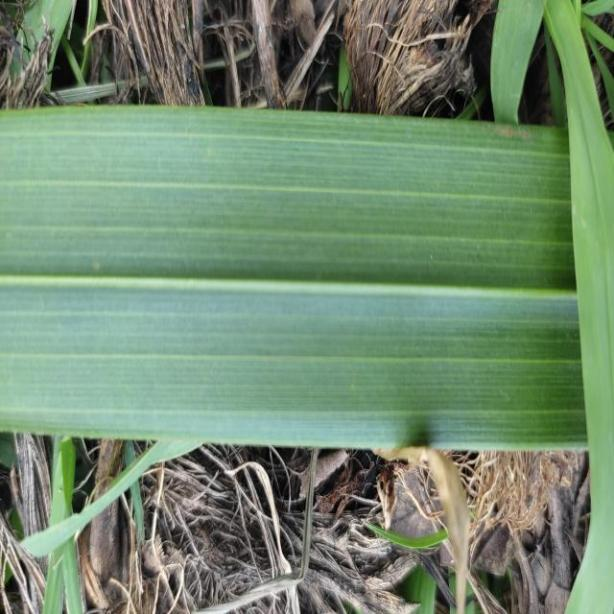Healthy: (0, 99, 614, 451)
